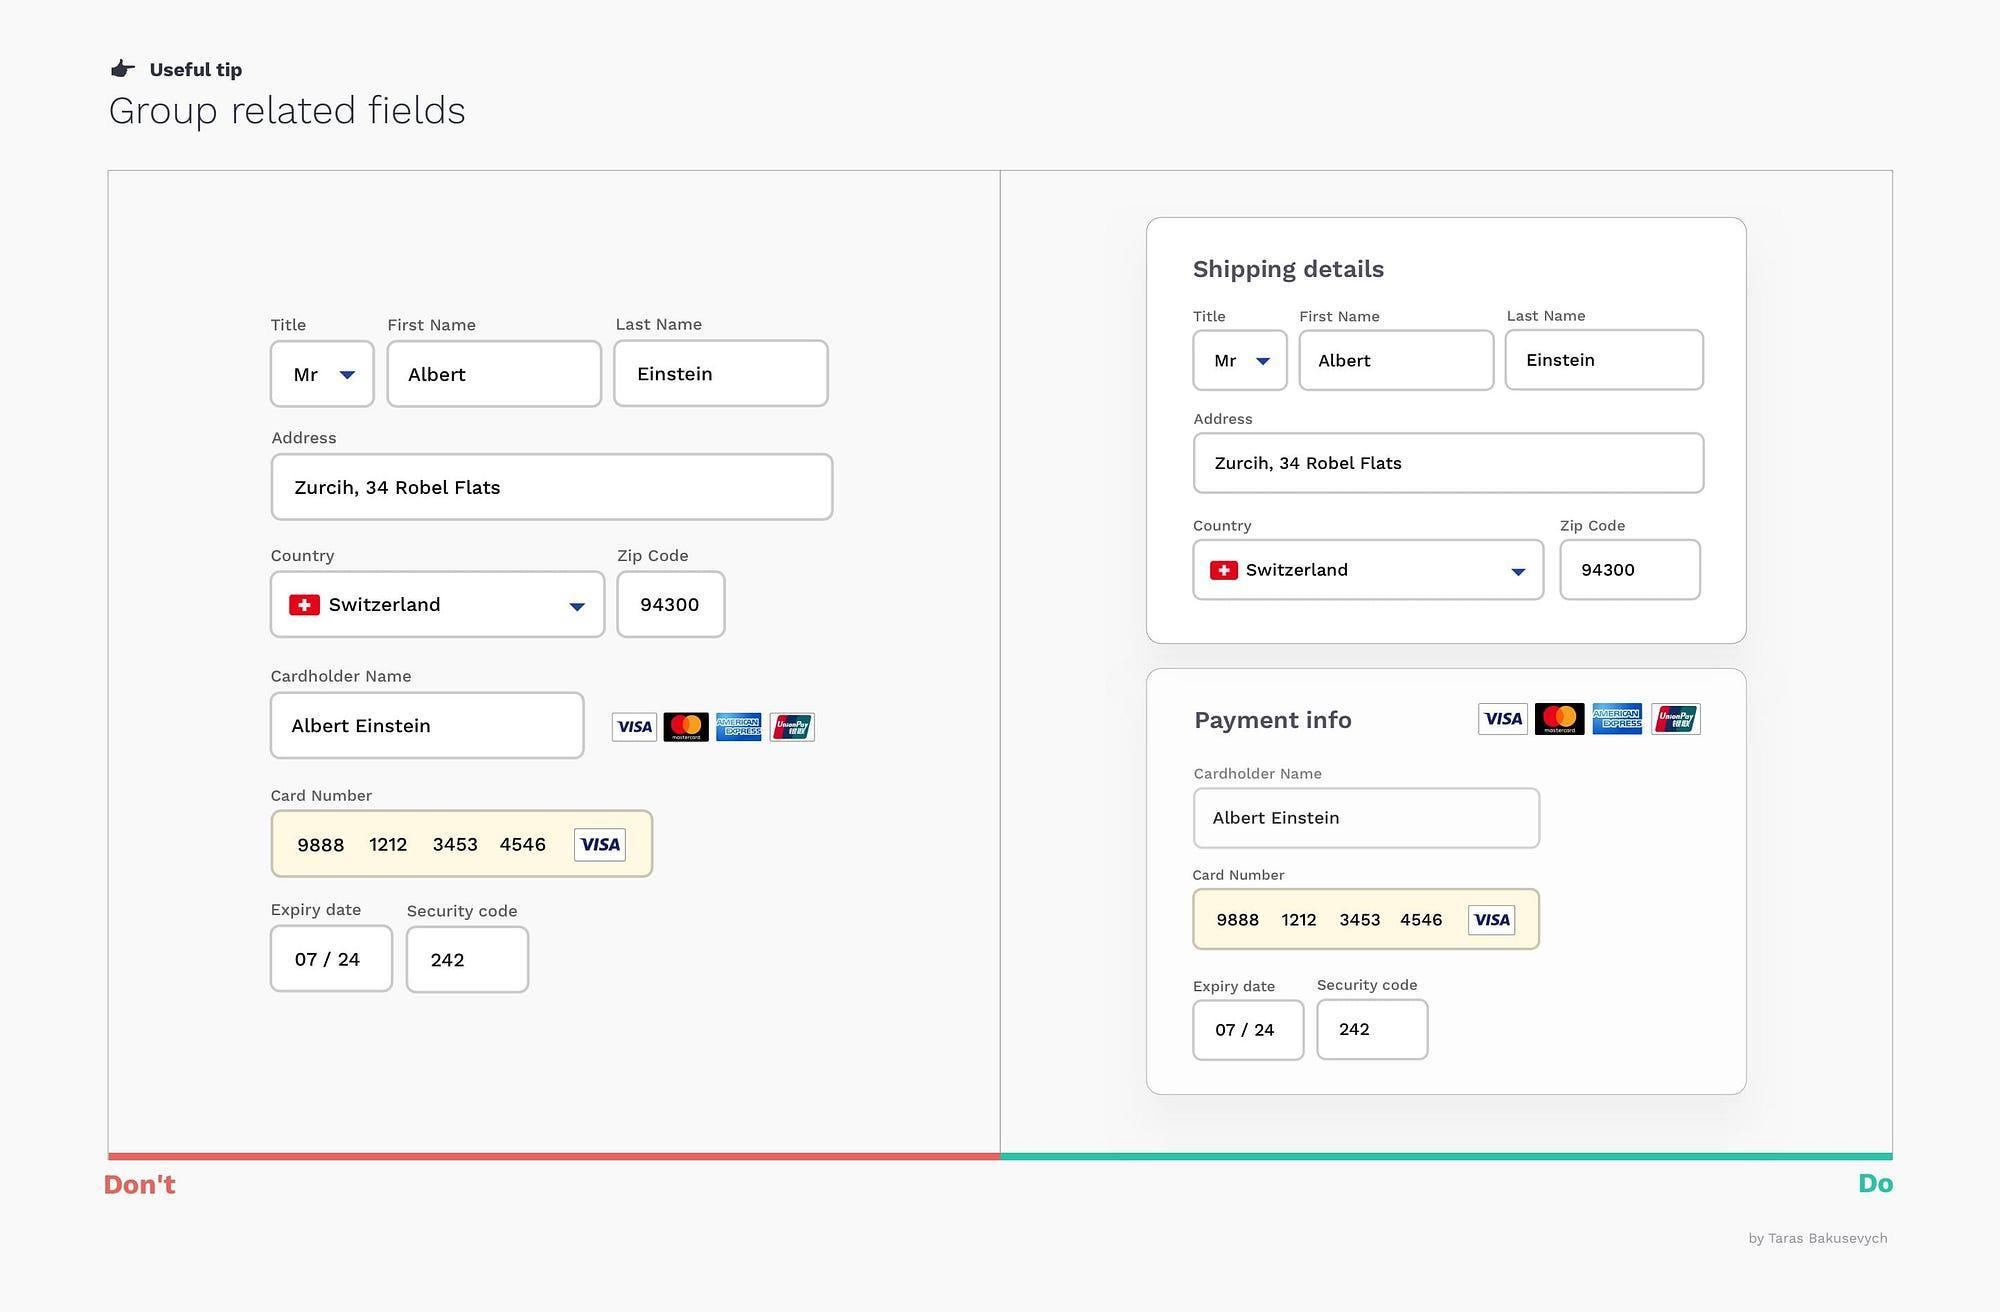dropdown: (269, 568, 608, 640), (1190, 537, 1548, 603), (269, 340, 381, 407), (1195, 327, 1288, 395)
input: (269, 452, 837, 521), (1193, 430, 1707, 496), (269, 805, 657, 881), (1190, 785, 1546, 852), (266, 688, 587, 763), (1192, 887, 1543, 952), (611, 338, 832, 410), (385, 343, 605, 409), (1504, 327, 1707, 394), (1299, 328, 1498, 392), (1561, 536, 1706, 602), (268, 921, 395, 996), (404, 924, 531, 994), (1316, 999, 1432, 1065), (616, 571, 731, 637), (1192, 999, 1307, 1062)
label: (104, 91, 476, 132), (1195, 253, 1388, 286), (1190, 707, 1354, 734), (268, 668, 414, 687), (1190, 766, 1327, 783), (406, 902, 523, 920), (266, 786, 373, 805), (1316, 977, 1422, 996), (269, 901, 365, 920), (1294, 306, 1382, 327), (1504, 307, 1589, 327), (389, 316, 480, 334), (1192, 868, 1288, 884), (1193, 978, 1280, 996), (616, 548, 690, 567), (616, 319, 706, 334), (1556, 517, 1627, 534), (272, 551, 338, 567), (1192, 414, 1256, 430), (1192, 520, 1255, 536), (271, 432, 340, 447), (1187, 307, 1231, 325), (269, 318, 307, 332)
